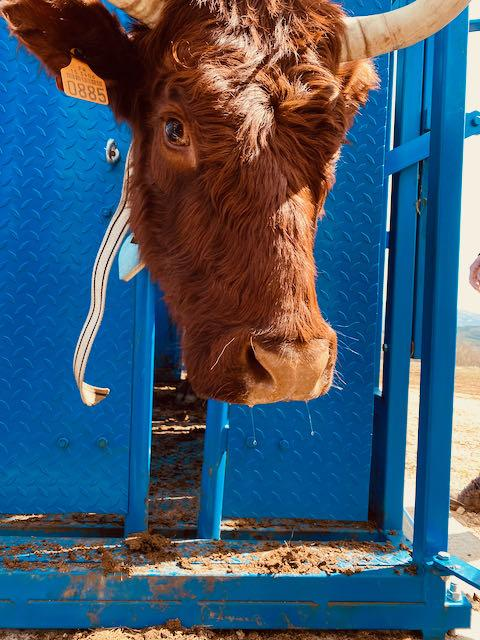muzzles: (205, 318, 349, 415)
